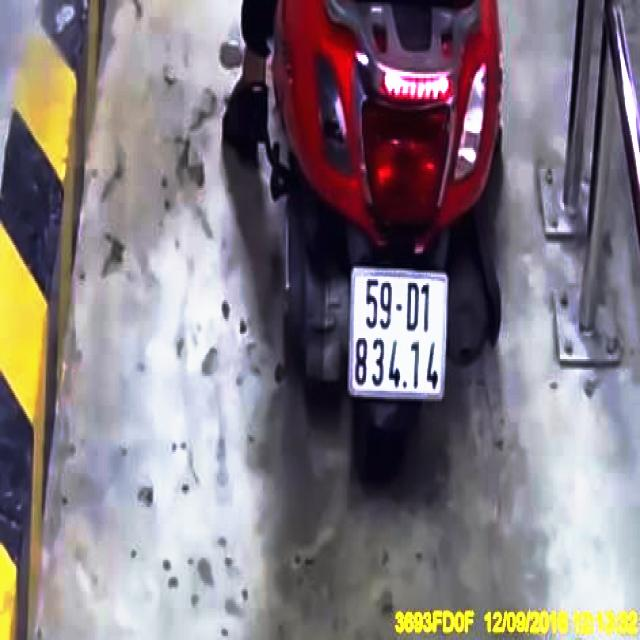license_plate: (351, 271, 450, 402)
